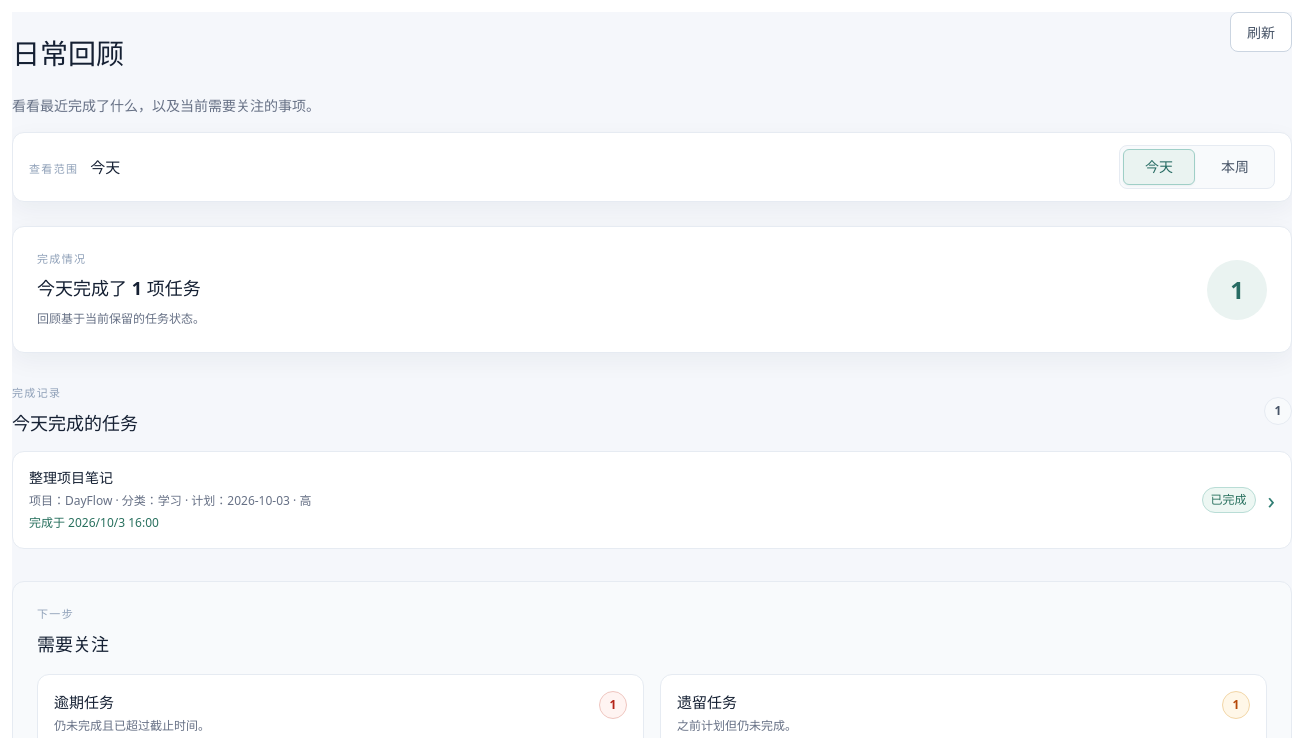
Test: ReviewView › switches to This Week without recalculating response semantics
Click the button "本周" at (1235, 167), box [1199,149,1271,185]
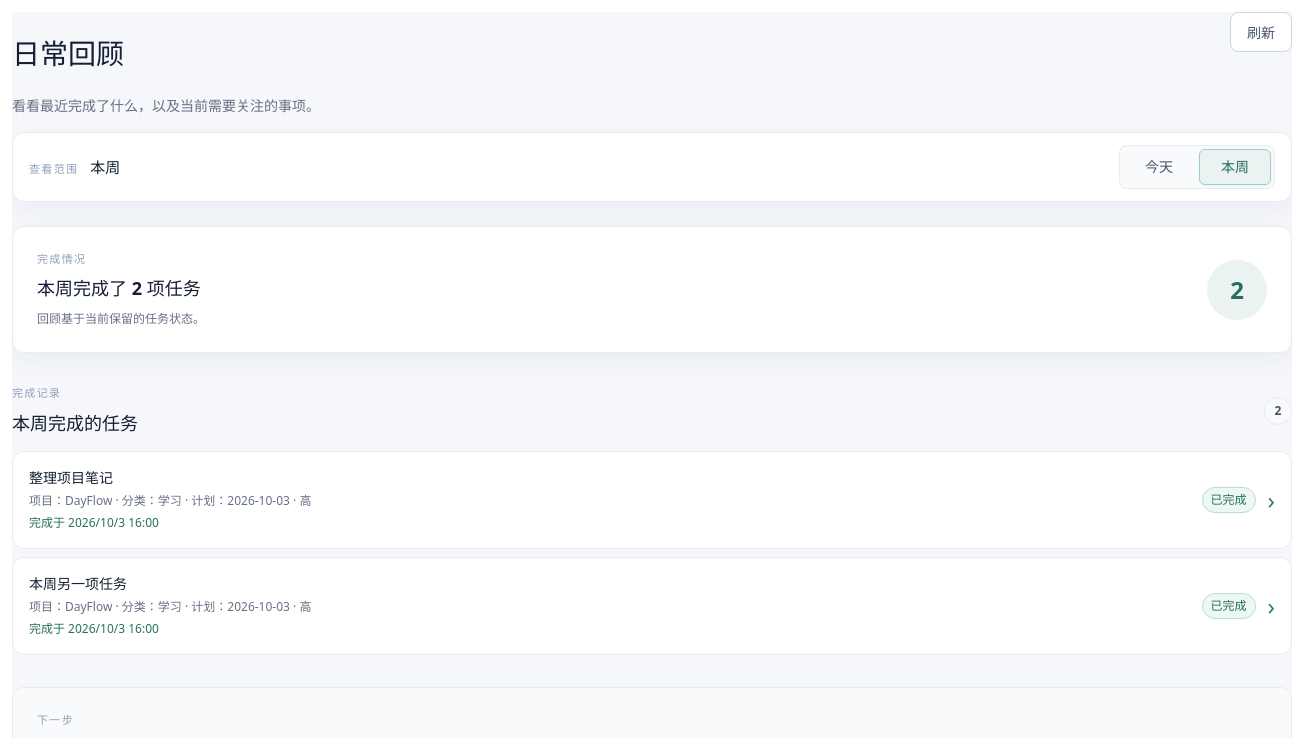
expect the text "本周完成了 2 项任务" is shown: met, box [37,275,205,302]
expect the text "本周另一项任务" is shown: met, box [29,574,127,593]
